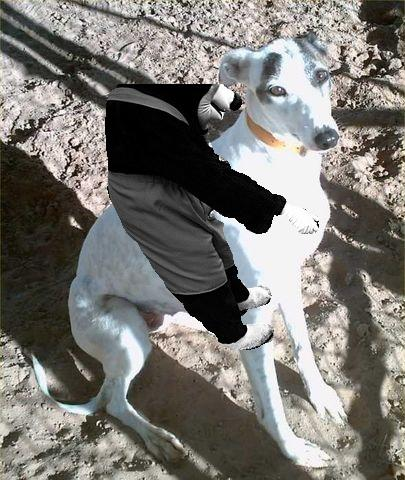tampered: (106, 85, 319, 350)
